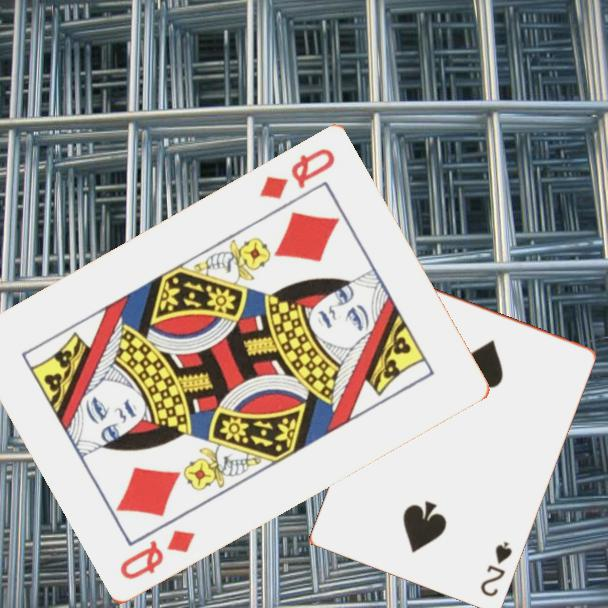d12: (255, 145, 338, 203), (116, 527, 199, 583)
s02: (477, 537, 515, 599)
